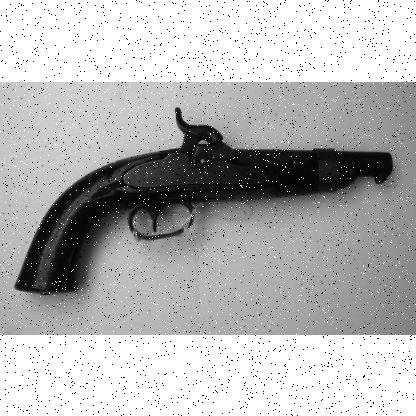gun: (13, 105, 392, 293)
